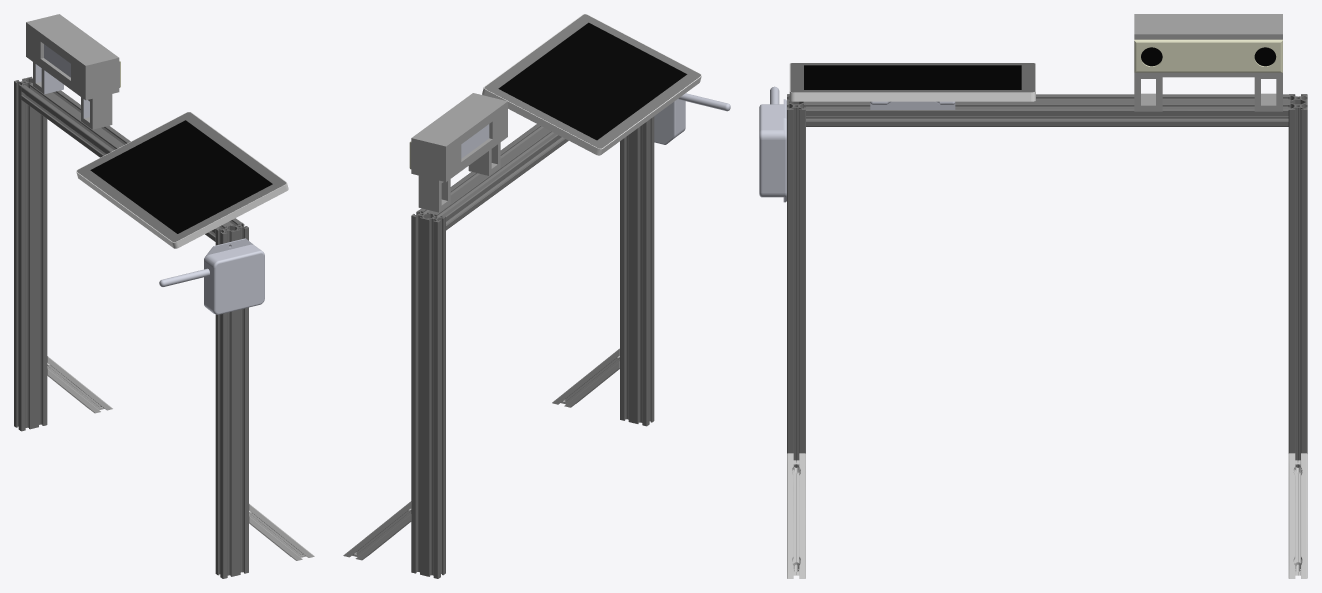
The model's file is integration_arch.dae.
The picture shows the model from 3 angles, left to right: view 1: azimuth 30°, elevation 25°; view 2: azimuth 150°, elevation 25°; view 3: azimuth 270°, elevation 25°; orthographic projection. The views are drawn at different scales.
Visible parts, largest first — view 1: mesh_1_001, mesh_7_001, mesh_5_001, mesh_3_001, mesh_6_001, mesh_2_001, mesh_4_001; view 2: mesh_1_001, mesh_7_001, mesh_5_001, mesh_6_001, mesh_2_001, mesh_3_001, mesh_4_001; view 3: mesh_1_001, mesh_5_001, mesh_7_001, mesh_2_001, mesh_8_001, mesh_3_001, mesh_4_001, mesh_6_001.
Part boxes in pixels (left/top/right/bottom): mesh_1_001: left=14, top=76, right=248, bottom=578; mesh_7_001: left=90, top=120, right=272, bottom=233; mesh_5_001: left=26, top=14, right=119, bottom=129; mesh_3_001: left=35, top=44, right=264, bottom=314; mesh_6_001: left=77, top=112, right=286, bottom=241; mesh_2_001: left=47, top=356, right=314, bottom=560; mesh_4_001: left=76, top=112, right=288, bottom=248; mesh_1_001: left=411, top=116, right=654, bottom=578; mesh_7_001: left=498, top=22, right=686, bottom=140; mesh_5_001: left=410, top=93, right=507, bottom=212; mesh_6_001: left=484, top=14, right=700, bottom=148; mesh_2_001: left=343, top=348, right=619, bottom=560; mesh_3_001: left=461, top=93, right=730, bottom=158; mesh_4_001: left=482, top=14, right=701, bottom=155; mesh_1_001: left=787, top=94, right=1307, bottom=468; mesh_5_001: left=1134, top=14, right=1282, bottom=111; mesh_7_001: left=804, top=47, right=1276, bottom=89; mesh_2_001: left=787, top=453, right=1307, bottom=578; mesh_8_001: left=1134, top=39, right=1282, bottom=72; mesh_3_001: left=759, top=86, right=955, bottom=202; mesh_4_001: left=789, top=63, right=1035, bottom=101; mesh_6_001: left=790, top=63, right=1034, bottom=92.
Bounding box in the file's own units: 0.2429 × 0.579 × 0.595.
